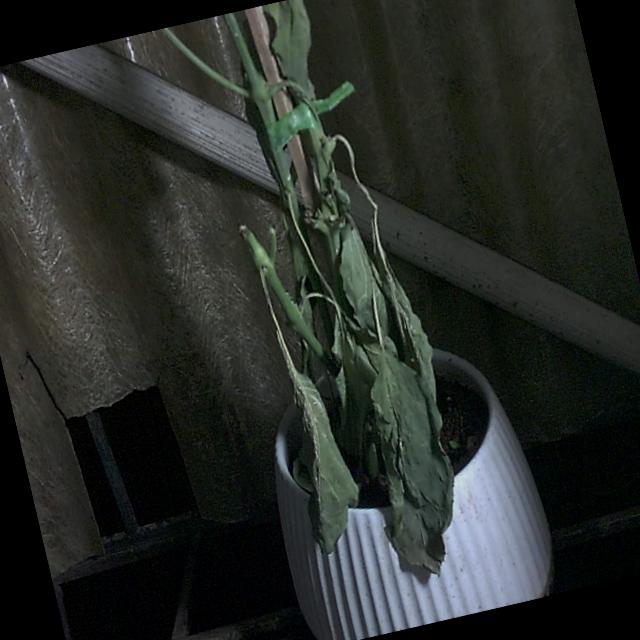Leaf: (346, 343, 477, 588), (274, 362, 372, 558)
